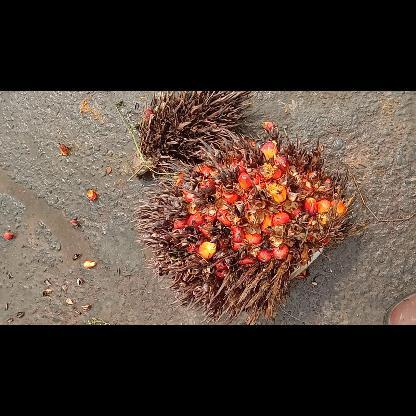Janjang kosong: (127, 91, 254, 175)
Terlalu masak: (132, 128, 362, 324)
